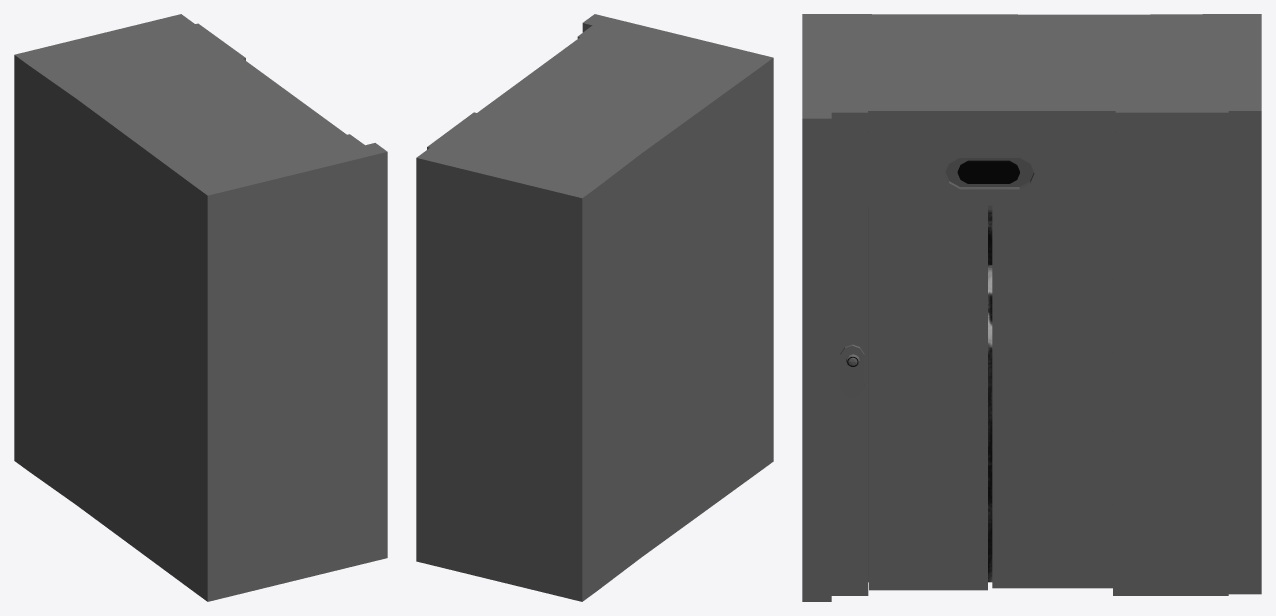
The model's file is Elevator.fbx.
The picture shows the model from 3 angles, left to right: view 1: azimuth 30°, elevation 25°; view 2: azimuth 150°, elevation 25°; view 3: azimuth 270°, elevation 25°; orthographic projection. The views are drawn at different scales.
Visible parts, largest first — view 1: Elevator.001; view 2: Elevator.001; view 3: Elevator.001.
Boxes of the visible parts, x1,y1,x2,y2 form: Elevator.001: (14,14,387,601); Elevator.001: (416,14,773,601); Elevator.001: (802,14,1261,601).
Bounding box in the file's own units: 216 × 465 × 400.
Materials: 1 (1 with a texture image).
